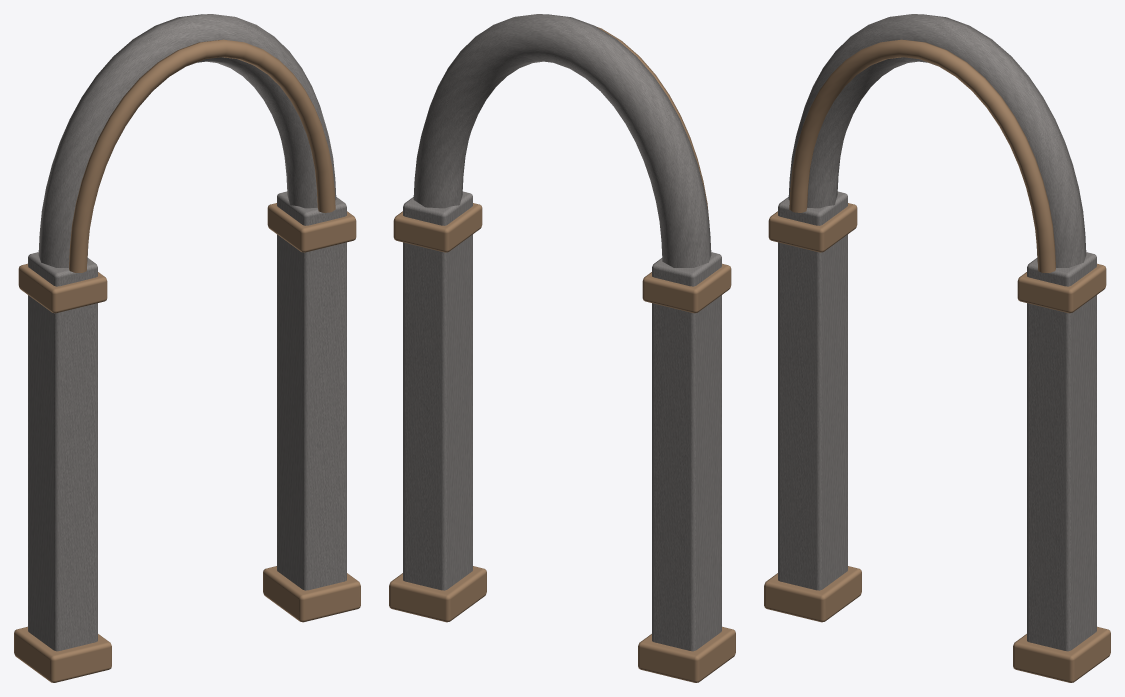
File: arena-shooter-map-kit-arched-doorway-164a3458__23069.glb
3 renders of one model, left to right at view 1: azimuth 30°, elevation 25°; view 2: azimuth 150°, elevation 25°; view 3: azimuth 330°, elevation 25°, orthographic.
Parts seen in each view (by area): view 1: arched-doorway; view 2: arched-doorway; view 3: arched-doorway.
Boxes of the visible parts, box(x1,y1,x2,y2) form: arched-doorway: box(14, 14, 360, 682); arched-doorway: box(389, 14, 735, 682); arched-doorway: box(764, 14, 1110, 682).
Bounding box in the file's own units: 2.12 × 4.02 × 0.47.
2 materials, 1 textured.
